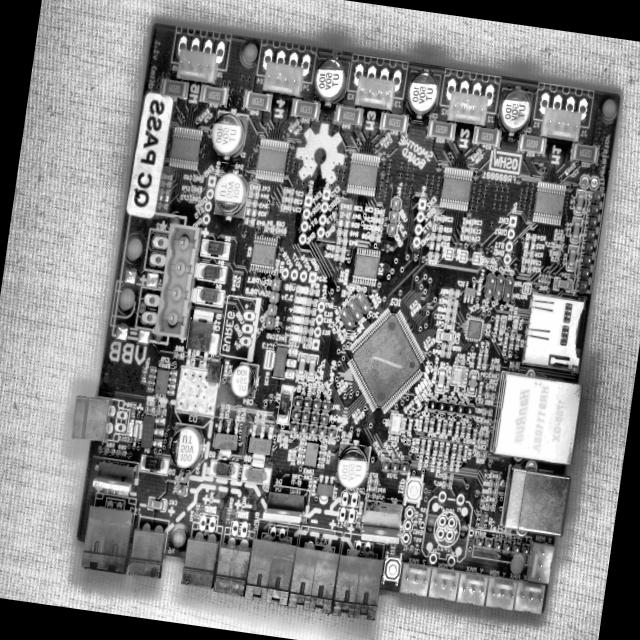PCB: (52, 24, 623, 640)
